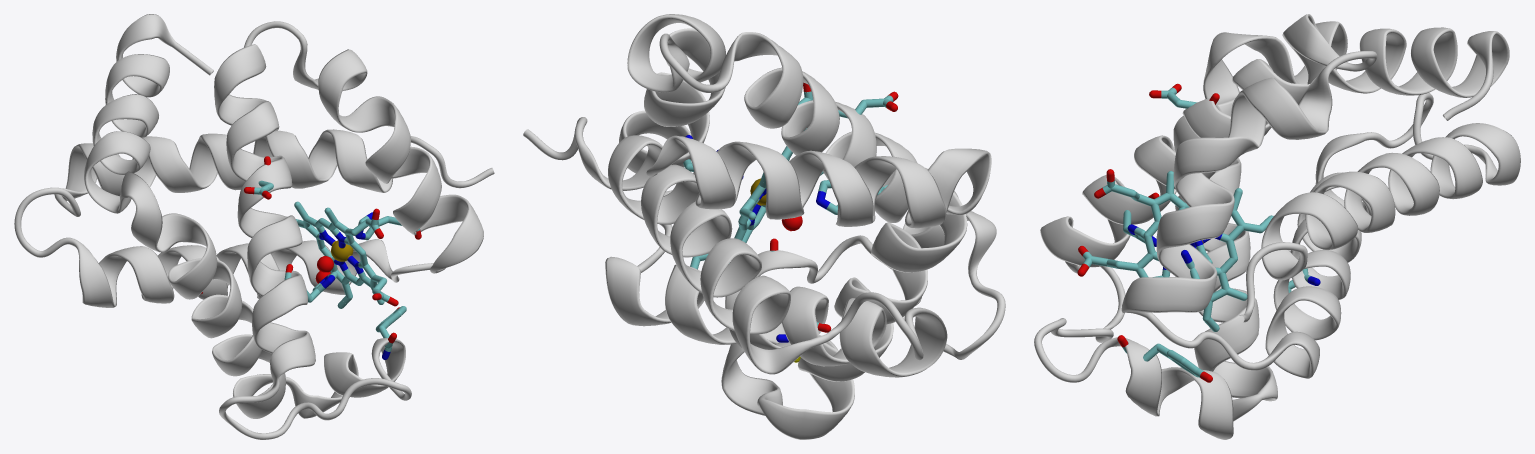
Rendered from frame28.gltf.
3 views of the same model, side by side, from view 1: azimuth 30°, elevation 25°; view 2: azimuth 150°, elevation 25°; view 3: azimuth 270°, elevation 25° (orthographic). The views are drawn at different scales.
Parts seen in each view (by area): view 1: vmd_mol28_rep3, vmd_mol28_rep2, vmd_mol28_rep1; view 2: vmd_mol28_rep3, vmd_mol28_rep1, vmd_mol28_rep2; view 3: vmd_mol28_rep3, vmd_mol28_rep2, vmd_mol28_rep1.
Boxes of the visible parts, x1=… form: vmd_mol28_rep3: x1=14, y1=14, x2=494, y2=439; vmd_mol28_rep2: x1=294, y1=201, x2=398, y2=308; vmd_mol28_rep1: x1=200, y1=156, x2=421, y2=359; vmd_mol28_rep3: x1=523, y1=14, x2=1005, y2=439; vmd_mol28_rep1: x1=683, y1=91, x2=898, y2=362; vmd_mol28_rep2: x1=734, y1=82, x2=823, y2=242; vmd_mol28_rep3: x1=1034, y1=14, x2=1520, y2=439; vmd_mol28_rep2: x1=1077, y1=169, x2=1273, y2=331; vmd_mol28_rep1: x1=1117, y1=83, x2=1320, y2=382.
Bounding box in the file's own units: 1.41 × 1.17 × 1.28.
